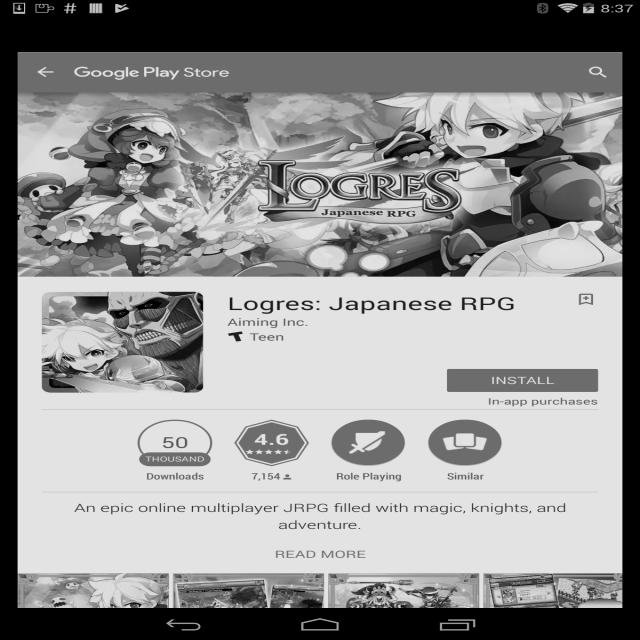Button: (170, 406, 264, 472), (273, 406, 367, 472), (376, 406, 470, 472), (478, 406, 572, 472), (454, 352, 614, 376)
ImageButton: (0, 17, 60, 59)
ImageView: (0, 59, 640, 254), (26, 270, 196, 377), (296, 568, 441, 640), (0, 568, 144, 640), (148, 568, 292, 640), (445, 568, 589, 640), (280, 406, 360, 455), (383, 406, 462, 455), (486, 406, 564, 455), (60, 30, 224, 46), (222, 312, 239, 323), (237, 464, 245, 469)
TextView: (0, 490, 640, 537), (0, 537, 640, 555), (222, 270, 614, 295), (25, 380, 166, 392), (589, 22, 640, 54), (68, 455, 162, 472), (273, 455, 367, 472), (376, 455, 470, 472), (478, 455, 572, 472), (498, 380, 614, 392), (199, 415, 236, 437), (189, 455, 234, 472), (100, 420, 130, 440), (222, 295, 260, 309), (245, 311, 283, 325), (90, 443, 140, 452)
